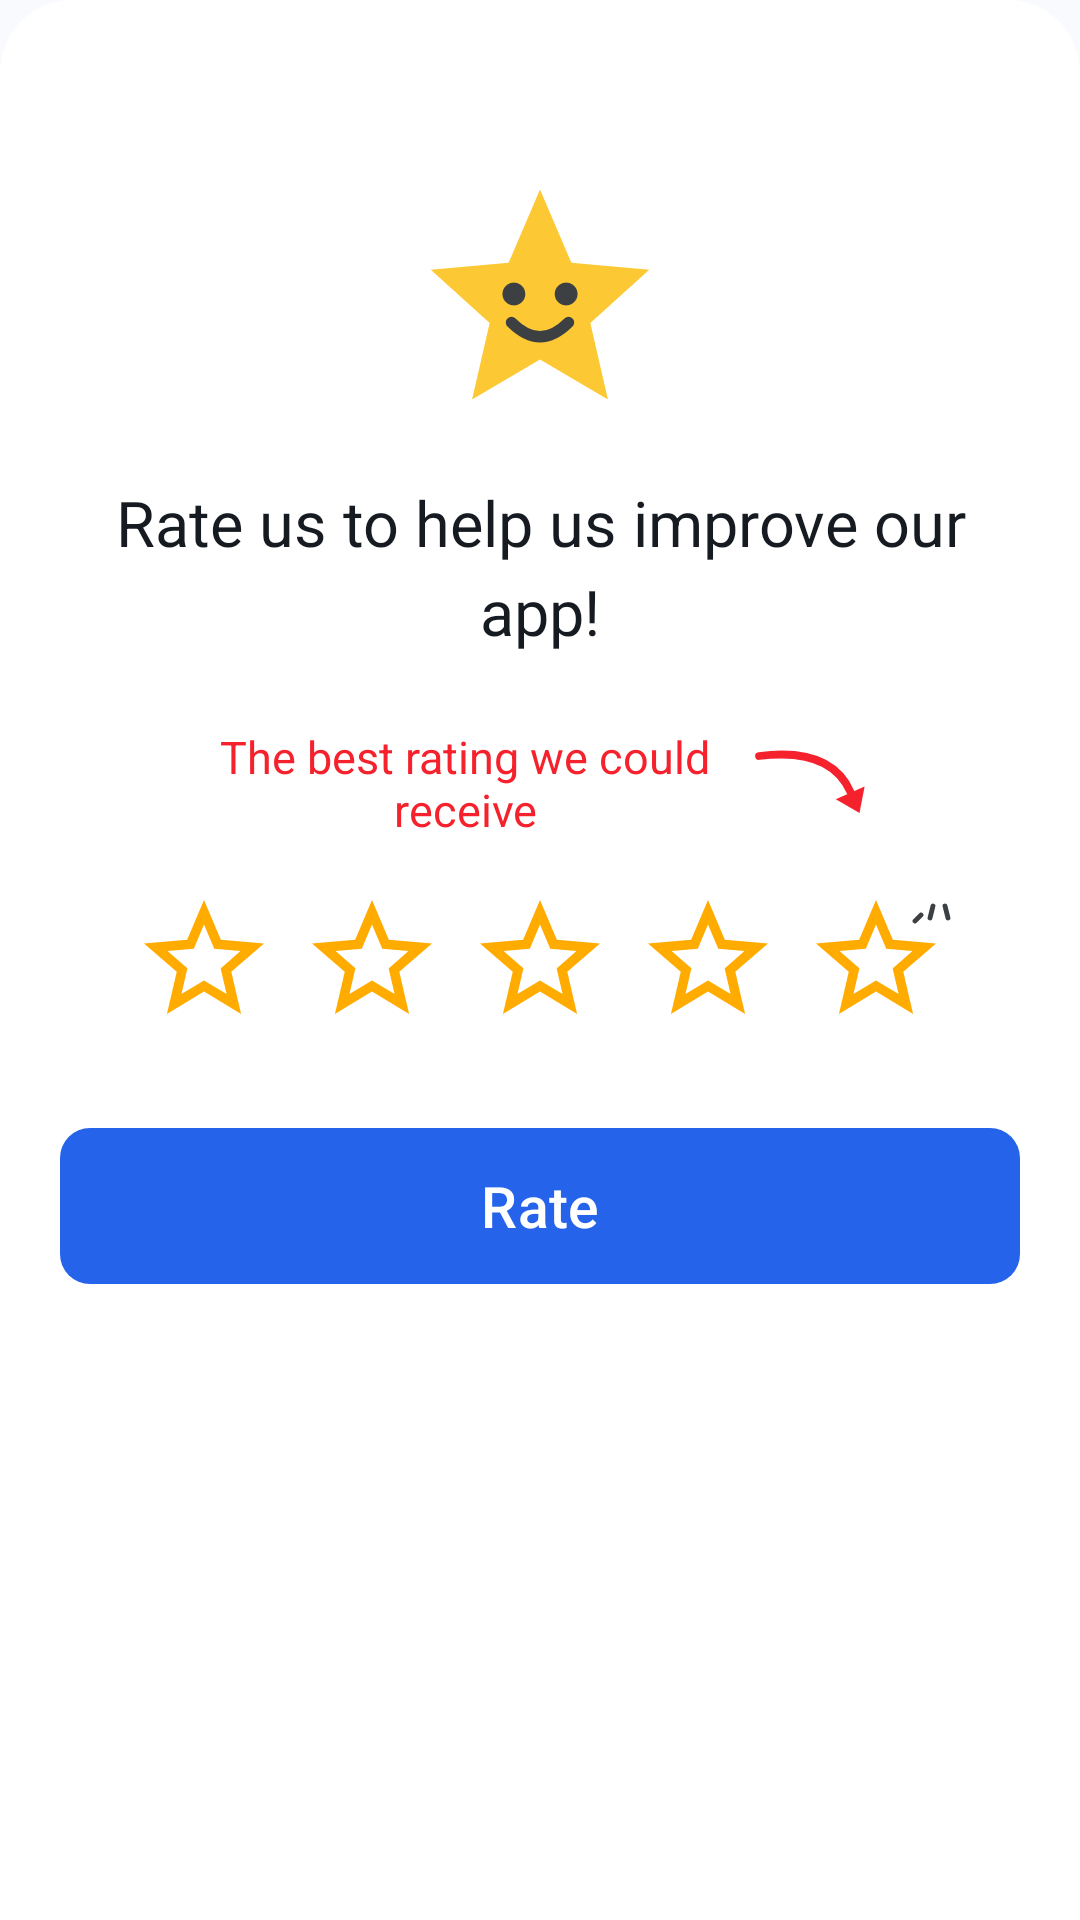

Point at icon controls on the screen. Image size 1080px x 1920px, points as (x,y).
face star: (540,295)
rating arrow: (810,781)
Star 1: (204,957)
Star 2: (372,957)
Star 3: (540,957)
Star 4: (708,957)
